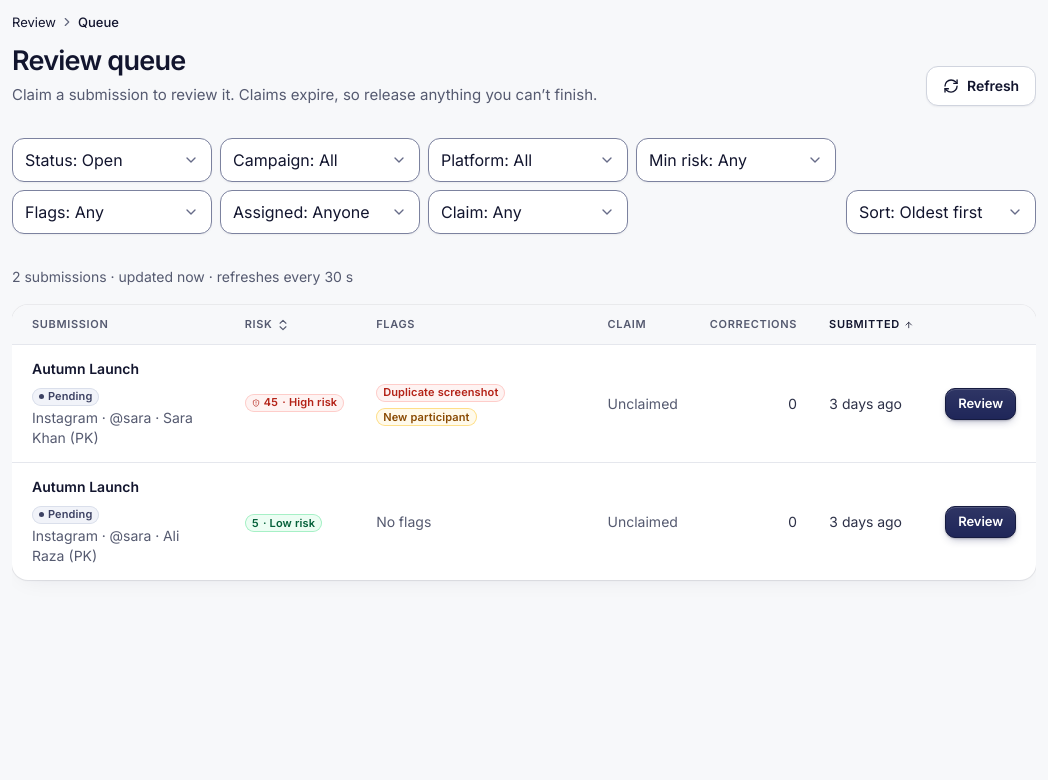
Scenario: QueuePage › claims and opens the workspace from "Review"
Click the button with aria-label "Review Autumn Launch by Sara Khan".
click(981, 404)  # box [945,388,1016,420]
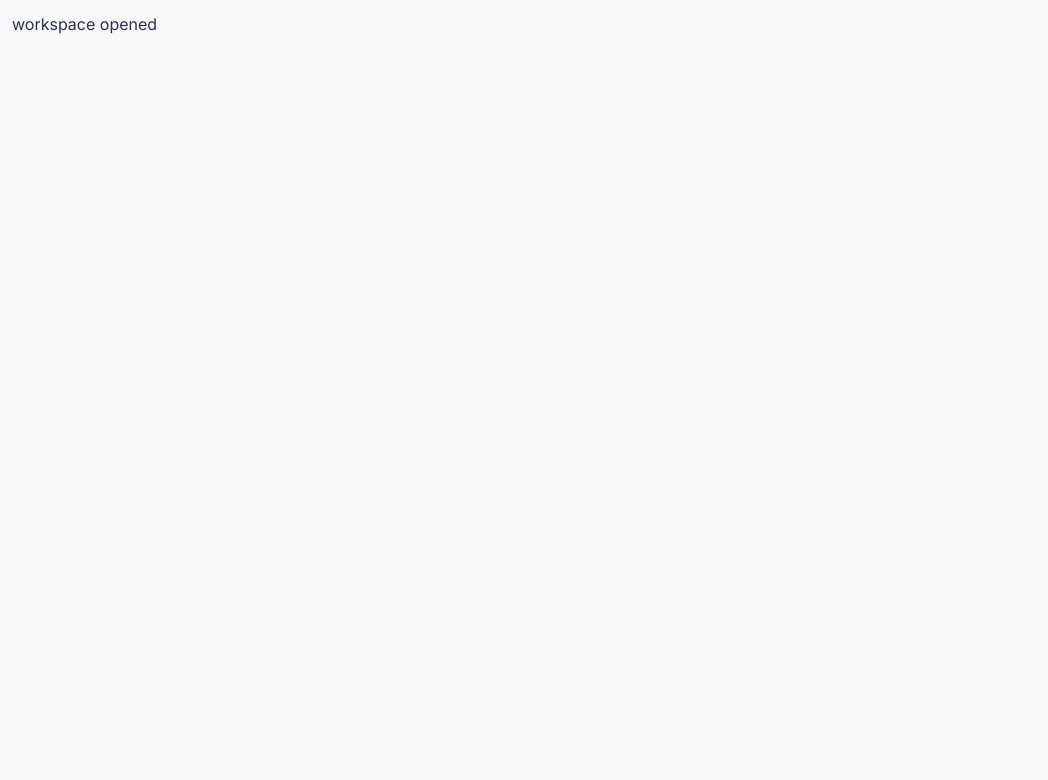
Expected: the text "workspace opened" is shown, [12,14,157,34]
